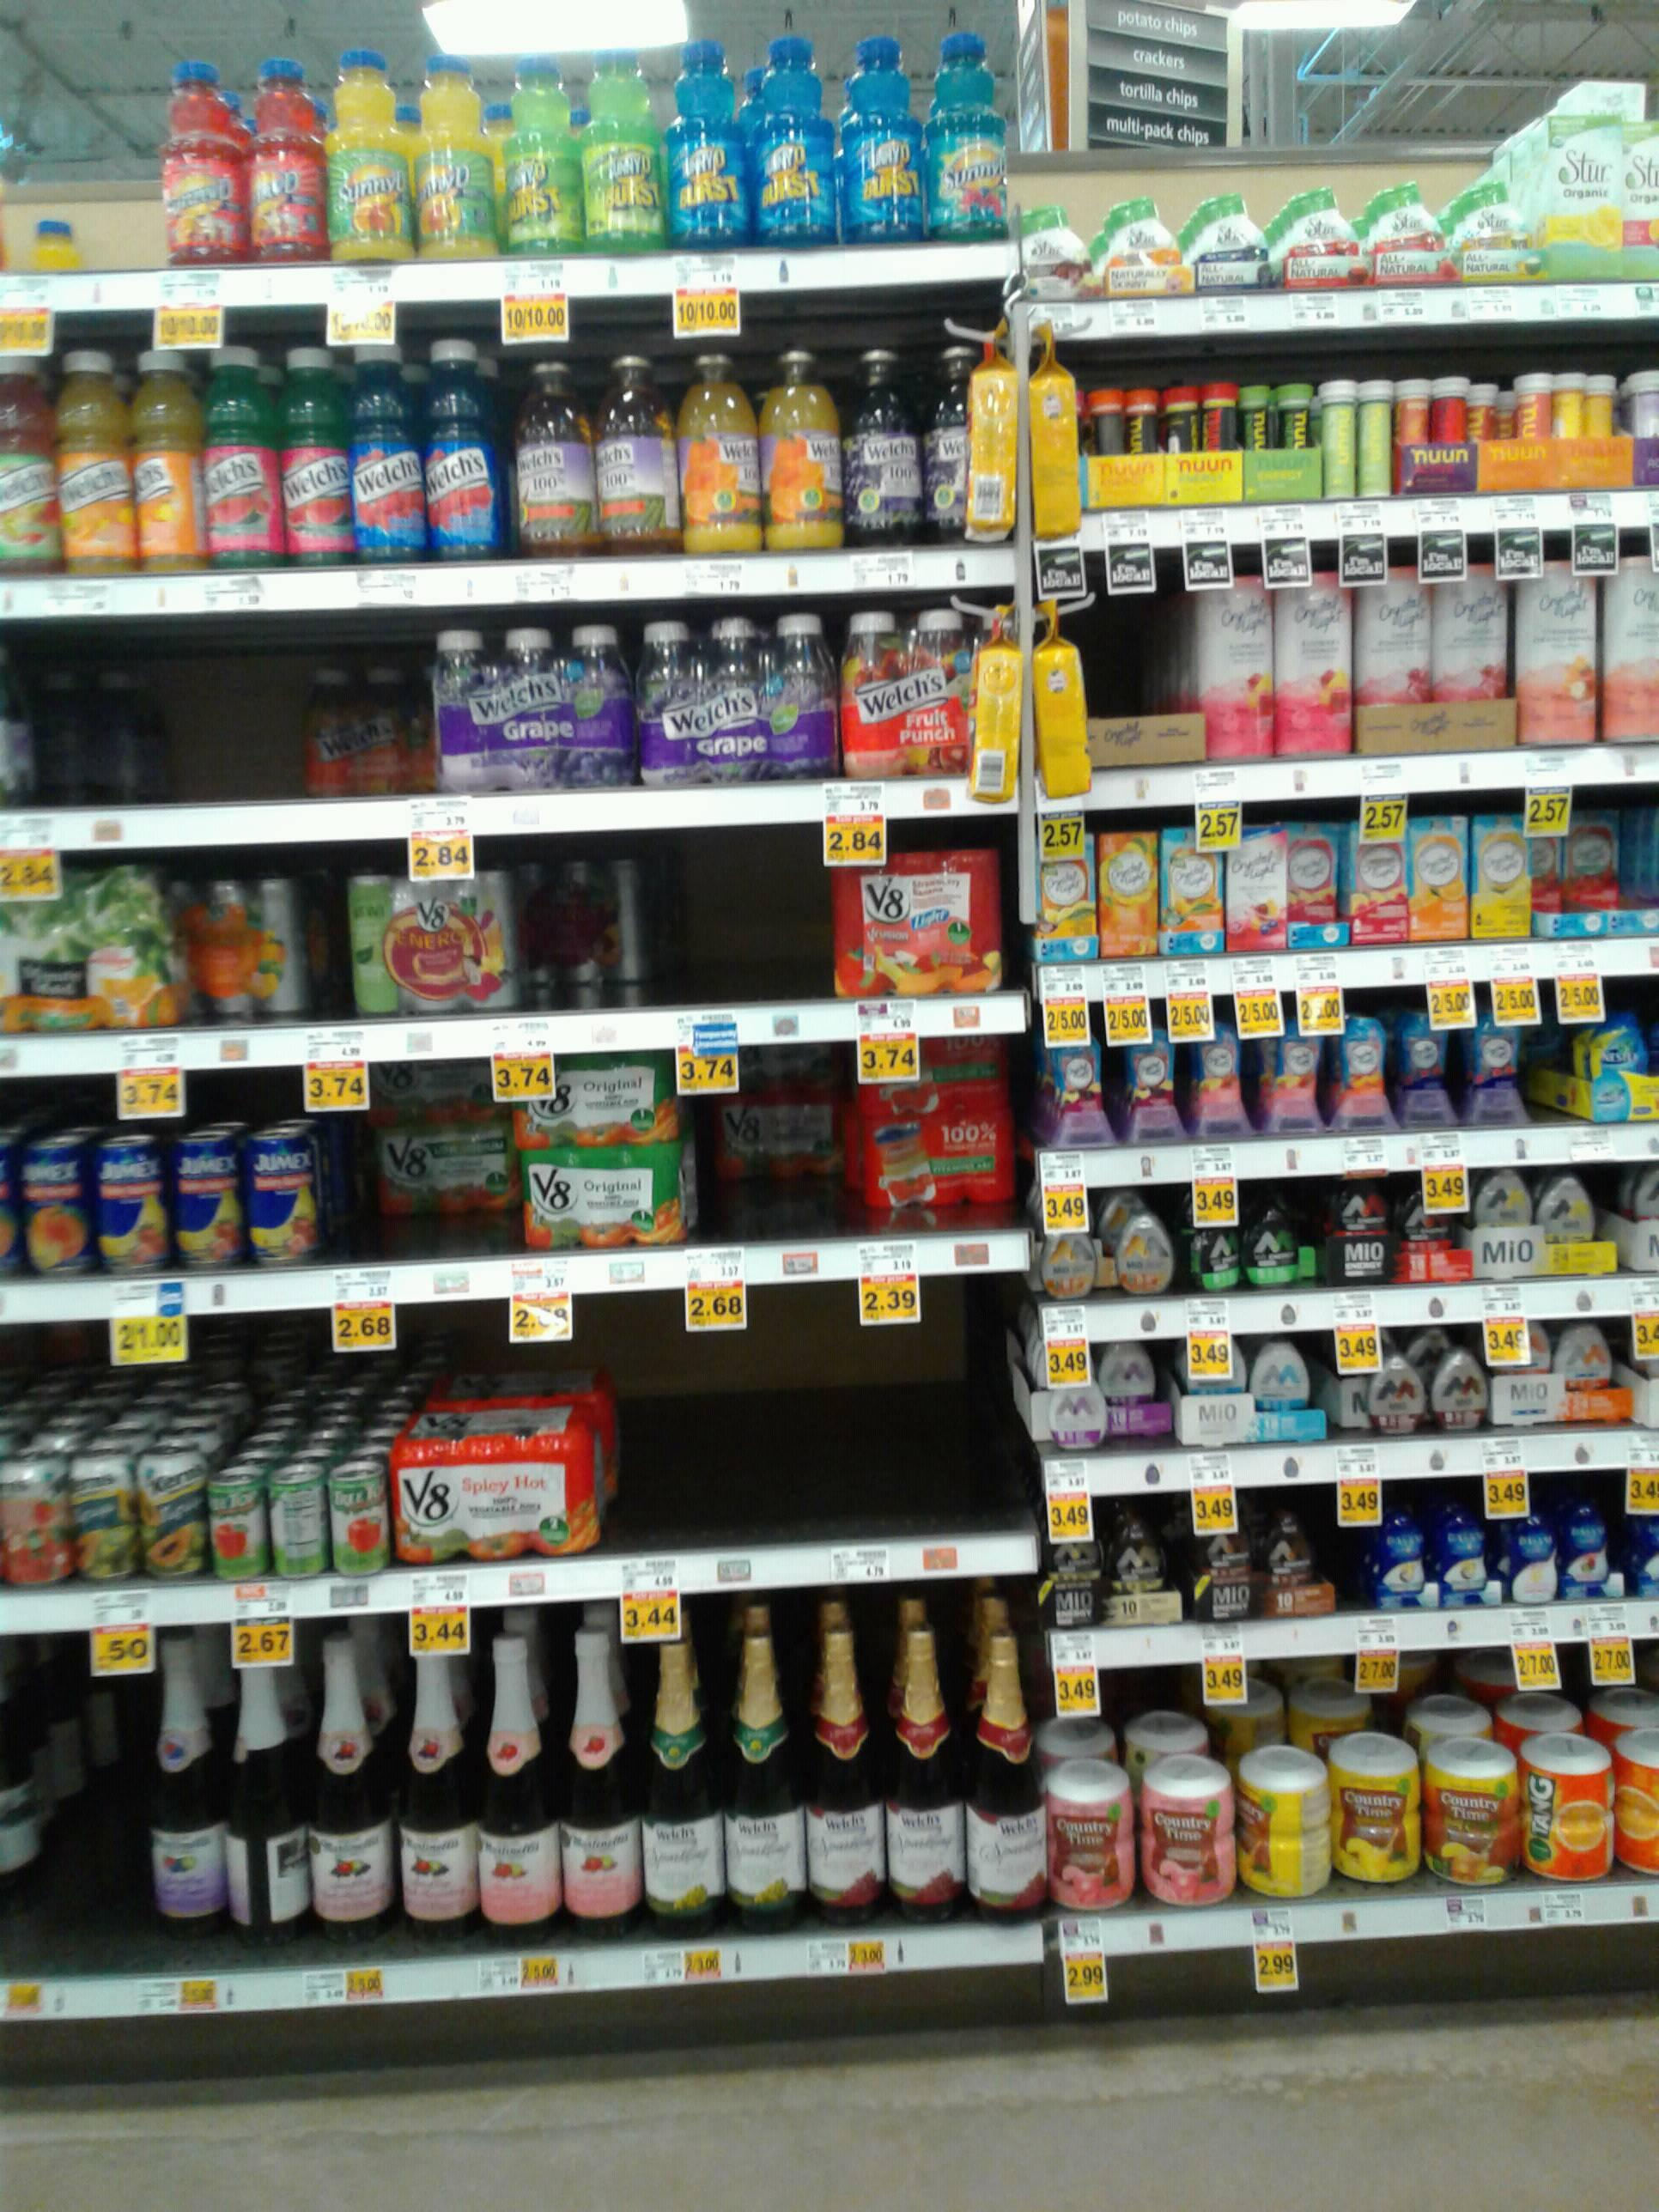empty: (627, 1341, 845, 1533), (847, 1336, 1033, 1531), (24, 1689, 153, 1956), (73, 644, 282, 799), (636, 841, 829, 996), (1087, 603, 1206, 725)
